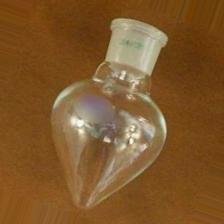Pear shaped flask: (45, 17, 176, 207)
